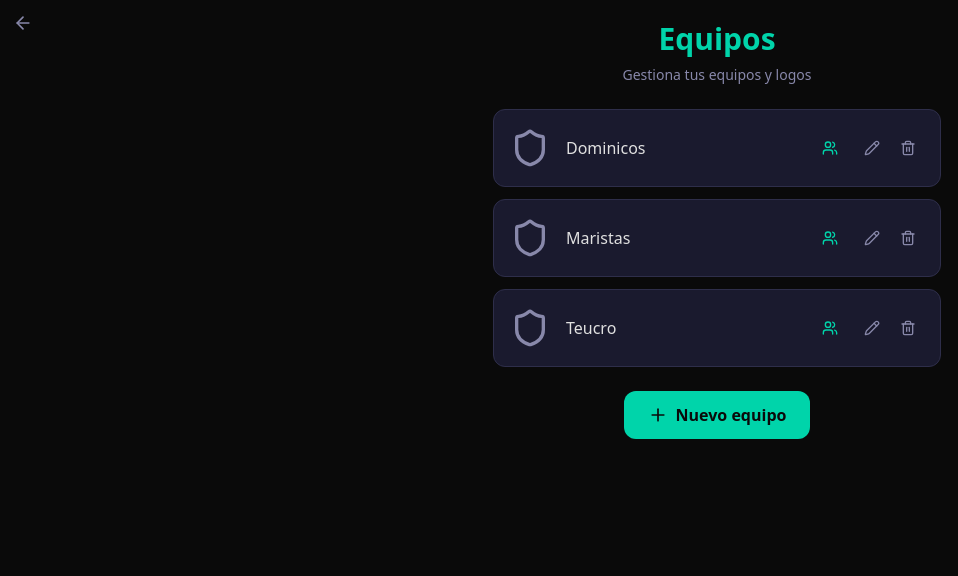
TeamsPage — duplicate name validation › edit form › shows error when renaming to an existing team name
Click the 1st button. click: [872, 148]
box: [856,132,888,164]
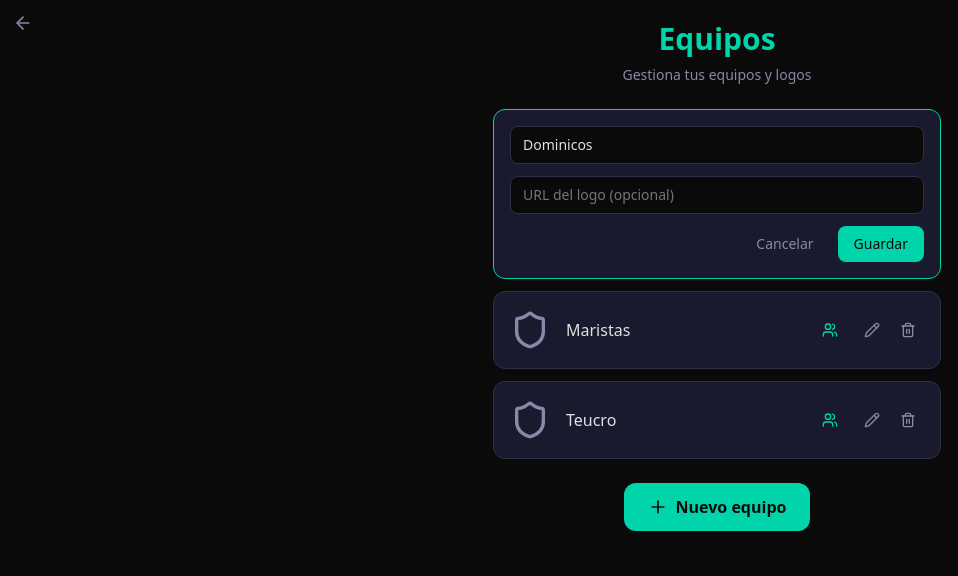
Replace the text in the field showing "Dominicos" with "Maristas". click: [717, 145]
box: [510,126,924,164]
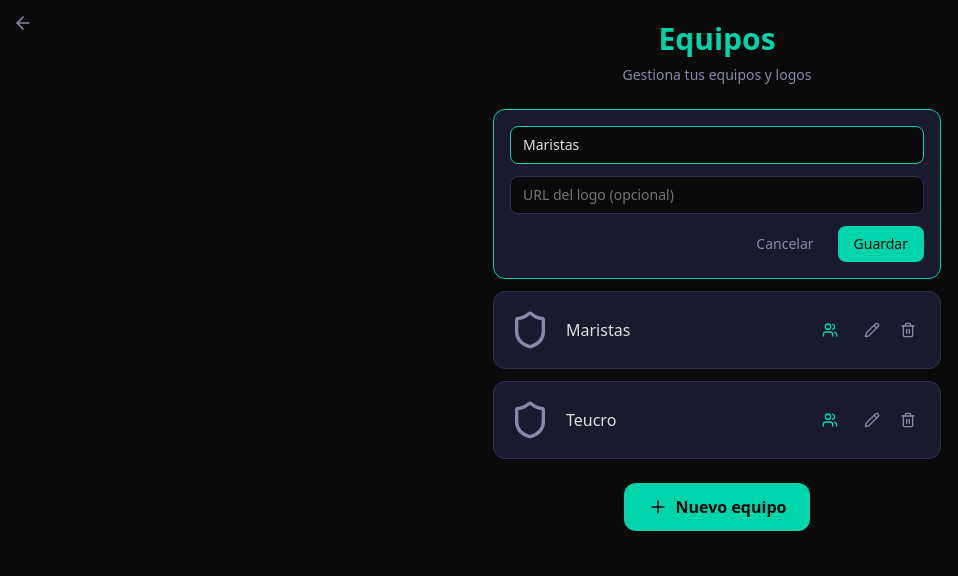
Click the button "Guardar". click: [881, 244]
box: [838,226,924,262]
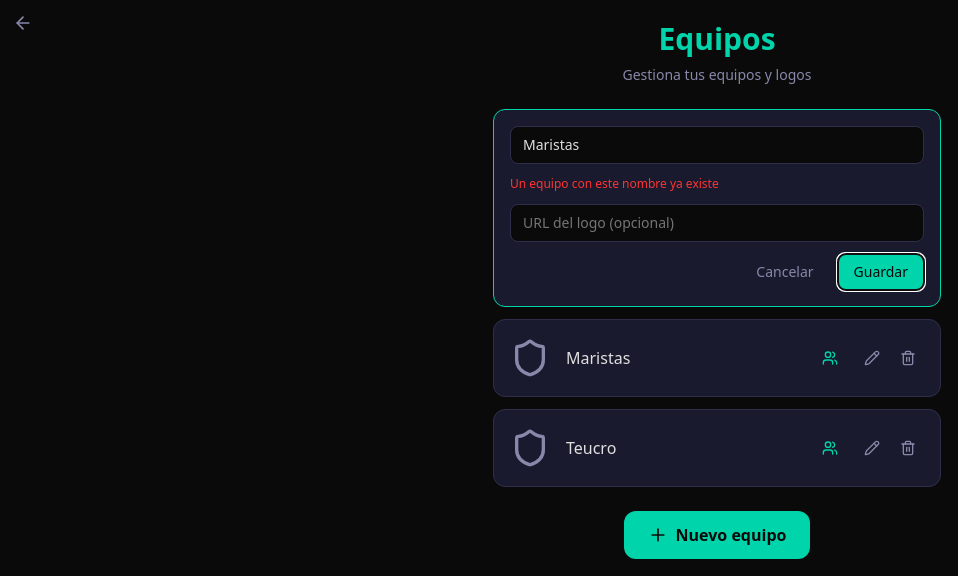
Expected: the text "Un equipo con este nombre ya existe" is shown, [510,175,719,192]
